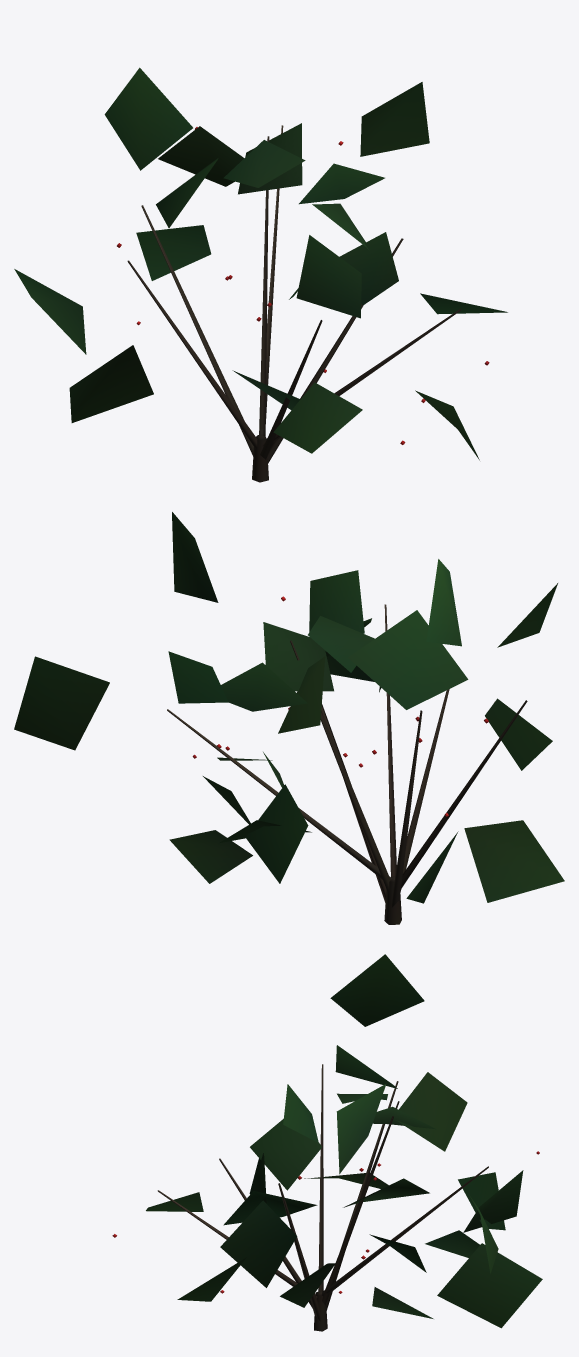
Rendered from bush-holly-a.lod2.glb.
3 renders of one model, top to bottom at view 1: azimuth 30°, elevation 25°; view 2: azimuth 150°, elevation 25°; view 3: azimuth 270°, elevation 25°, orthographic. The views are drawn at different scales.
Visible parts, largest first — view 1: bush-holly-a.lod2; view 2: bush-holly-a.lod2; view 3: bush-holly-a.lod2.
Part boxes in pixels (x1=…): bush-holly-a.lod2: x1=14, y1=67, x2=507, y2=482; bush-holly-a.lod2: x1=14, y1=512, x2=564, y2=924; bush-holly-a.lod2: x1=112, y1=954, x2=542, y2=1331.
Bounding box in the file's own units: 2.06 × 1.77 × 2.59.
